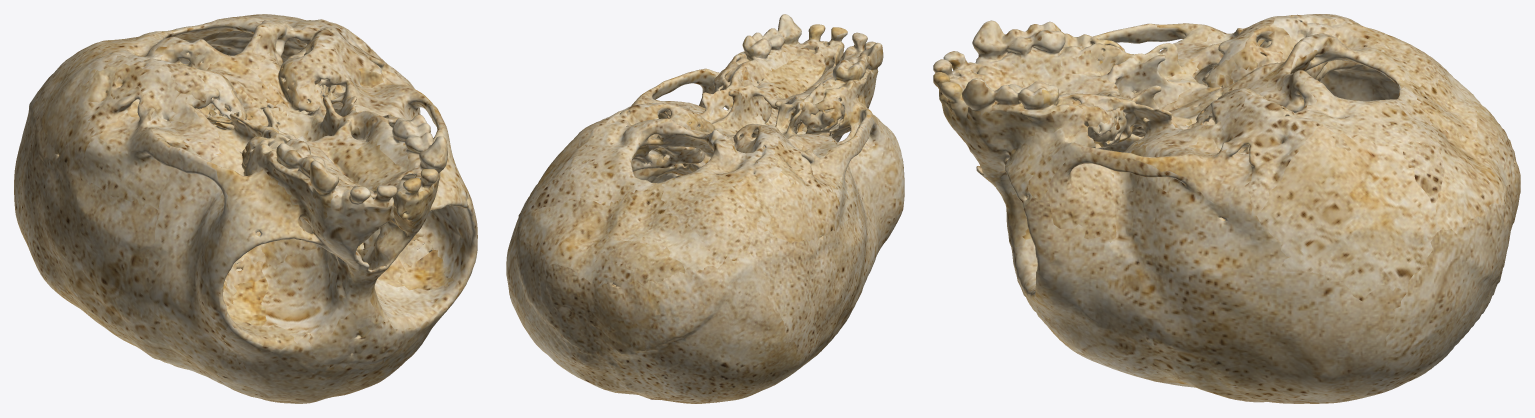
File: kloss-gibbon-cranium-2k-v01-textured-v03.glb
3 views of the same model, side by side, from view 1: azimuth 30°, elevation 25°; view 2: azimuth 150°, elevation 25°; view 3: azimuth 270°, elevation 25° (orthographic). The views are drawn at different scales.
Visible parts, largest first — view 1: Mesh_0; view 2: Mesh_0; view 3: Mesh_0.
Boxes of the visible parts, x1,y1,x2,y2 form: Mesh_0: [14, 14, 477, 403]; Mesh_0: [506, 14, 904, 403]; Mesh_0: [933, 14, 1520, 403].
Bounding box in the file's own units: 60.63 × 52.28 × 85.8.
1 material, 1 textured.
